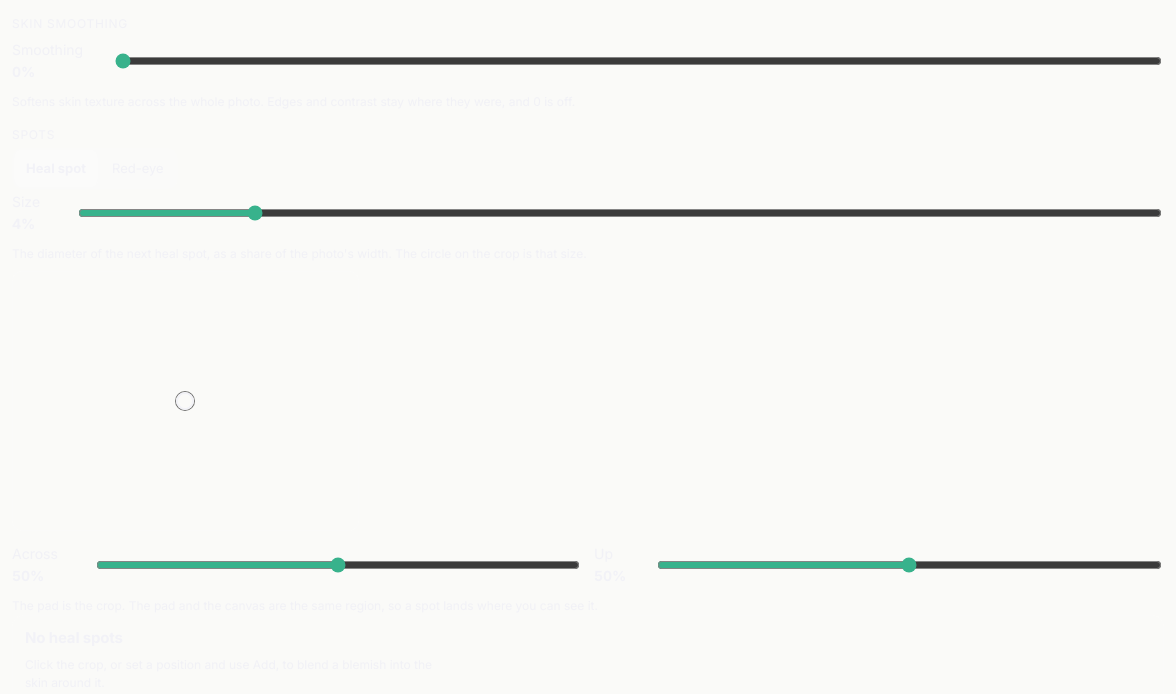
Scenario: the pad places a spot, and a spot is a real edit › moves the position sliders to where the spot went, or the two would disagree
Click the button named "Place a heal spot at 50% across, 50% up" at (185, 401), box [12,271,359,531]
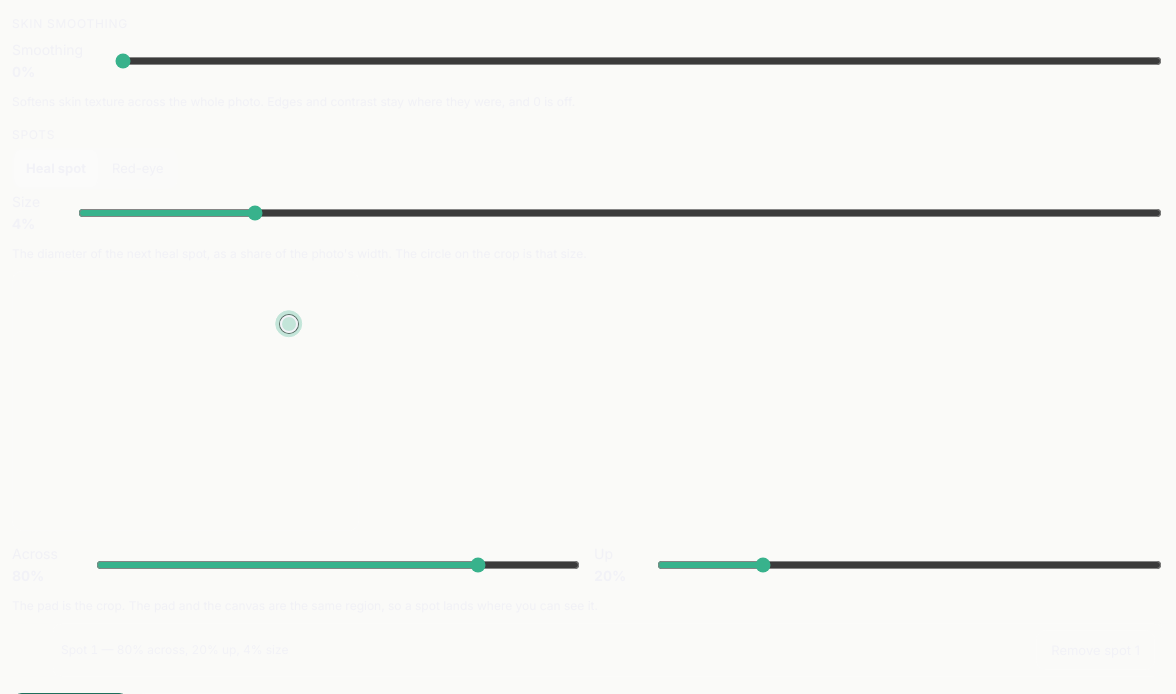
Expected: the slider labelled "Across 80%" holds "80", [96,543,580,587]
Expected: the slider labelled "Up 20%" holds "20", [657,543,1162,587]
